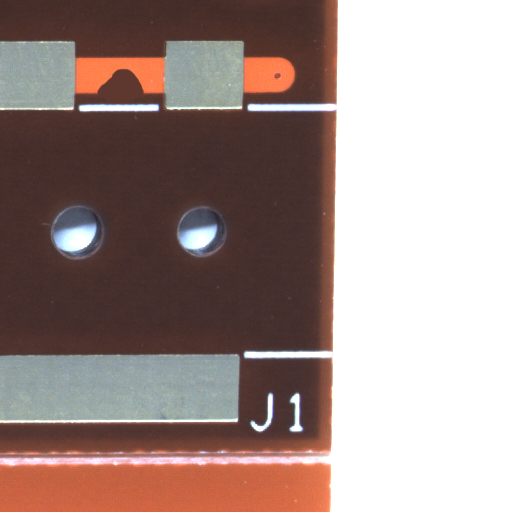Mouse_bite: (120, 84, 175, 117)
